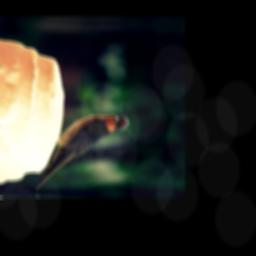Swallow: (33, 111, 132, 194)
